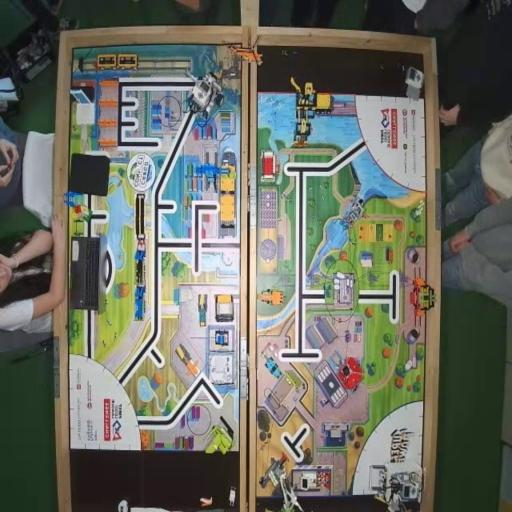lego_robot: (369, 463, 425, 512), (185, 69, 225, 125)
